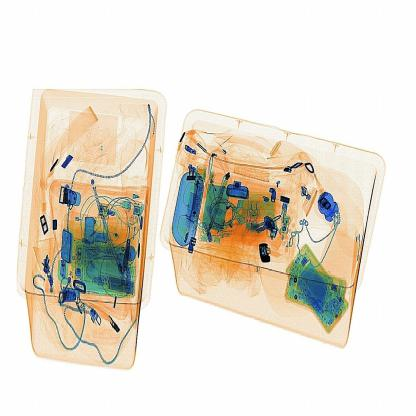wrench: (255, 231, 284, 275)
